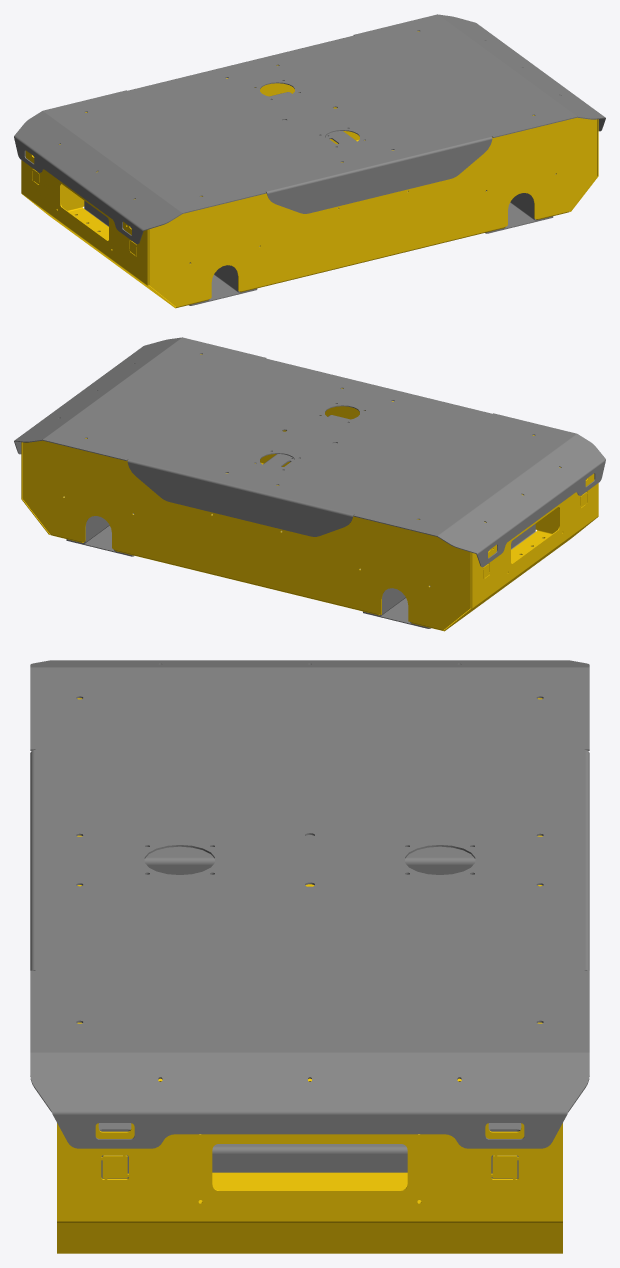
Rendered from BaseMetal.dae.
The picture shows the model from 3 angles, top to bottom: view 1: azimuth 30°, elevation 25°; view 2: azimuth 150°, elevation 25°; view 3: azimuth 270°, elevation 25°; orthographic projection. The views are drawn at different scales.
Visible parts, largest first — view 1: MetalCoverMesh, YellowMetalBodyMesh, MetalSuspensionMesh, MetalCrossBraceMesh; view 2: MetalCoverMesh, YellowMetalBodyMesh, MetalSuspensionMesh, MetalCrossBraceMesh; view 3: MetalCoverMesh, YellowMetalBodyMesh, MetalCrossBraceMesh.
Boxes of the visible parts, box(x1,y1,x2,y2) form: MetalCoverMesh: box(14, 14, 605, 244); YellowMetalBodyMesh: box(21, 31, 598, 308); MetalSuspensionMesh: box(75, 190, 553, 305); MetalCrossBraceMesh: box(130, 92, 556, 263); MetalCoverMesh: box(14, 337, 605, 567); YellowMetalBodyMesh: box(21, 354, 598, 631); MetalSuspensionMesh: box(66, 513, 544, 628); MetalCrossBraceMesh: box(63, 415, 489, 586); MetalCoverMesh: box(30, 660, 589, 1148); YellowMetalBodyMesh: box(57, 698, 562, 1253); MetalCrossBraceMesh: box(98, 835, 521, 1172).
Size of the model in its own units: 0.8226 by 0.43 by 0.1741.
